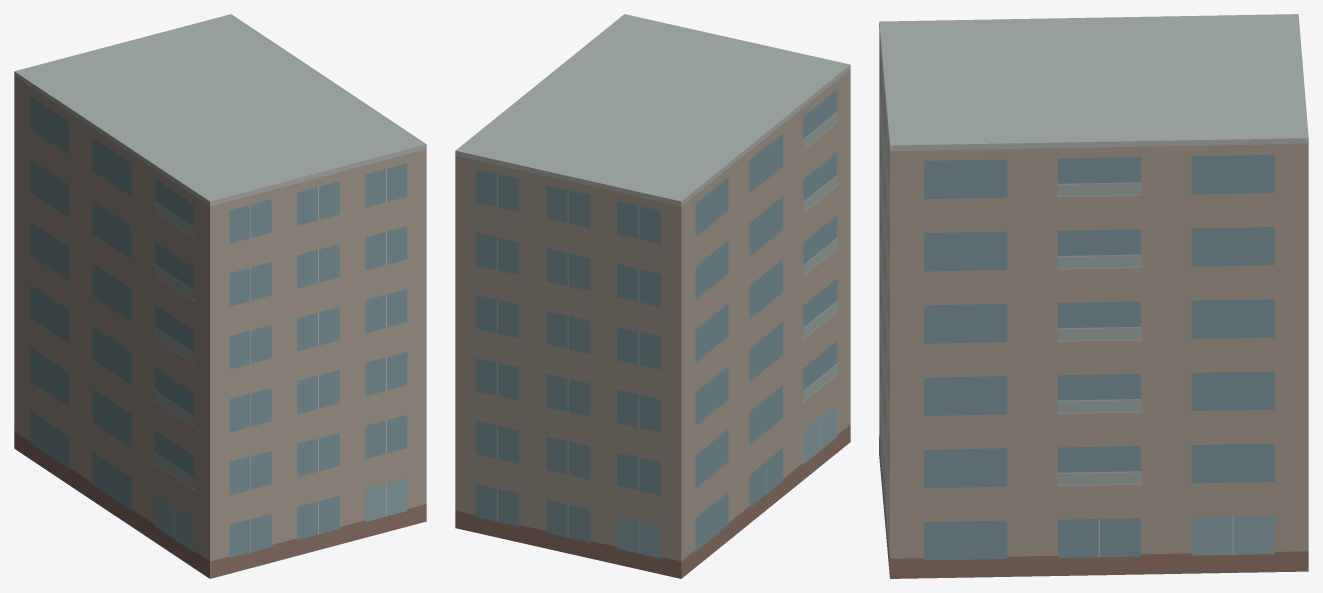
Rendered from survey-upis-32736611.glb.
3 renders of one model, left to right at view 1: azimuth 30°, elevation 25°; view 2: azimuth 150°, elevation 25°; view 3: azimuth 270°, elevation 25°, orthographic. The views are drawn at different scales.
Parts seen in each view (by area): view 1: survey-upis-32736611.tmp; view 2: survey-upis-32736611.tmp; view 3: survey-upis-32736611.tmp.
Part boxes in pixels (x1=…): survey-upis-32736611.tmp: x1=14, y1=14, x2=426, y2=578; survey-upis-32736611.tmp: x1=455, y1=14, x2=850, y2=578; survey-upis-32736611.tmp: x1=879, y1=14, x2=1308, y2=578.
Size of the model in its own units: 12.31 by 18.9 by 16.99.
